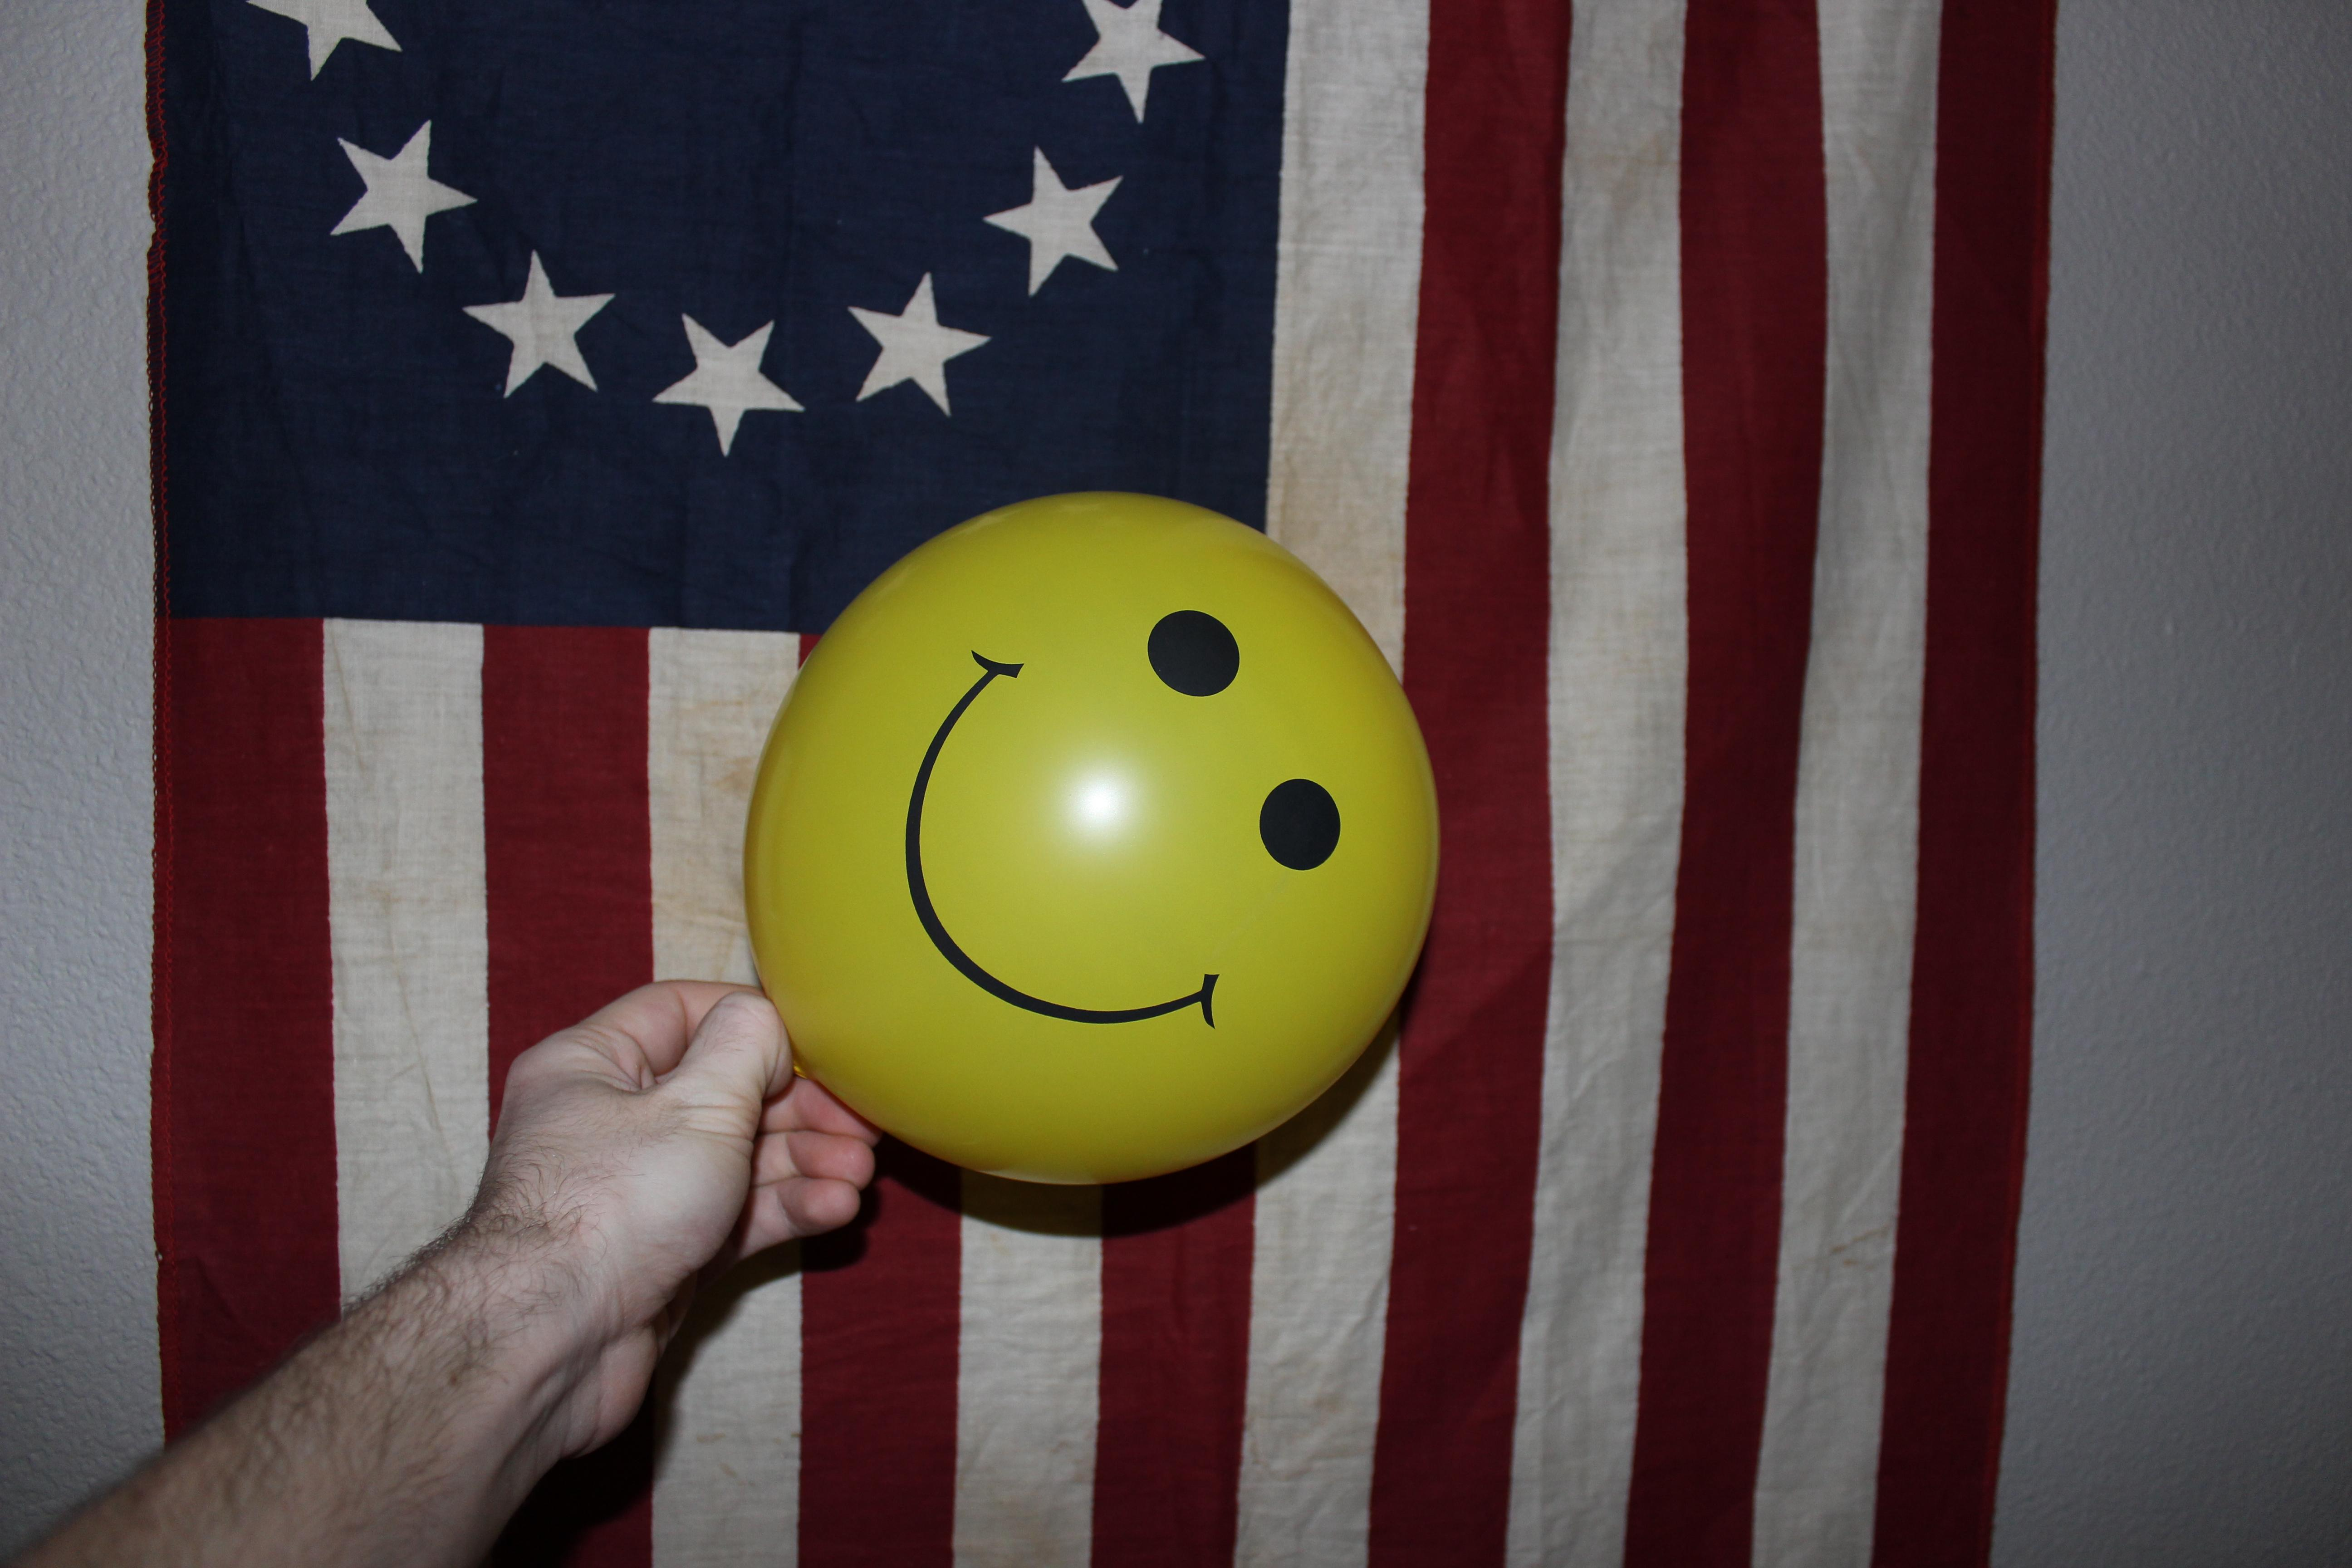yellowBalloon: (726, 464, 1470, 1220)
